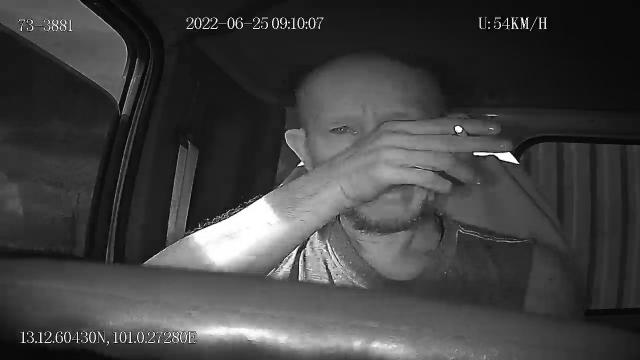Cigarette: (454, 124, 470, 136)
